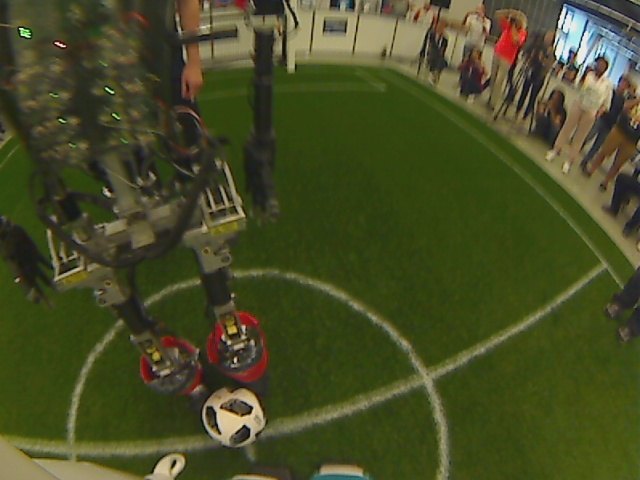ball: (198, 381, 270, 450)
